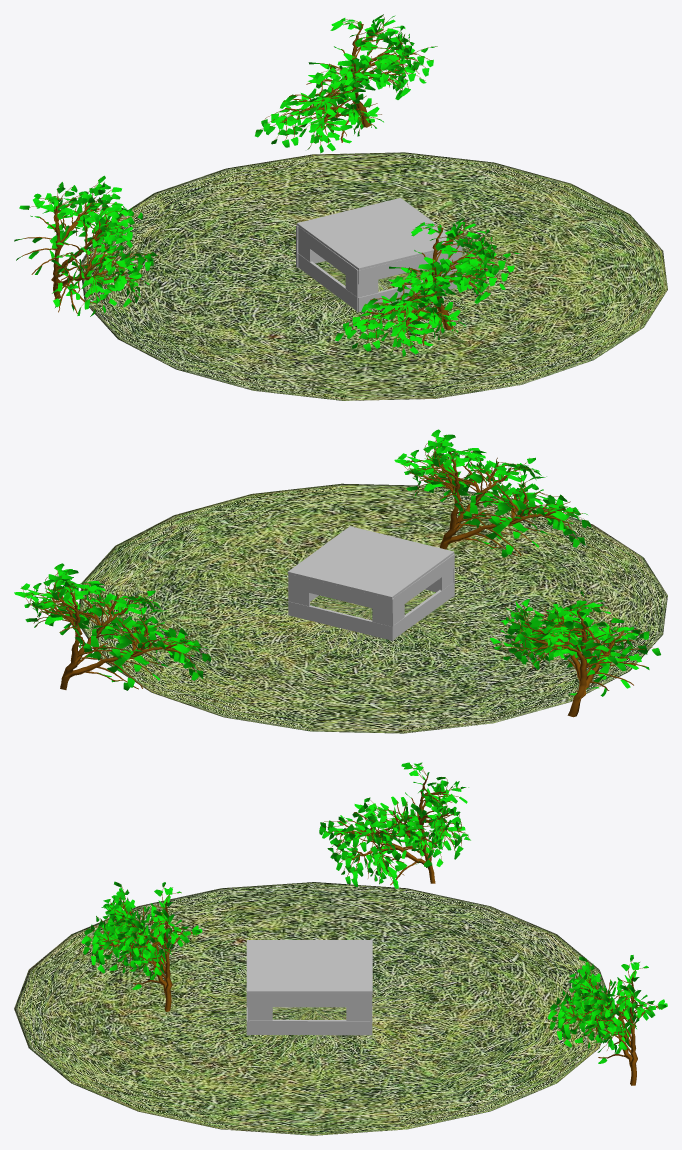
File: Tienda 2.fbx
3 renders of one model, top to bottom at view 1: azimuth 30°, elevation 25°; view 2: azimuth 150°, elevation 25°; view 3: azimuth 270°, elevation 25°, orthographic.
Visible parts, largest first — view 1: pSphere1, pasted__birchBlowingLight1Leaf, birchBlowingLight1Leaf, pasted__pasted__birchBlowingLight1Leaf, pCube2, pasted__pasted__birchBlowingLight1Main, birchBlowingLight1Main, pasted__birchBlowingLight1Main, pasted__pCube1 (×2), pasted__pasted__pCube1 (×2); view 2: pSphere1, pCube2, birchBlowingLight1Leaf, pasted__birchBlowingLight1Leaf, pasted__pasted__birchBlowingLight1Leaf, pasted__birchBlowingLight1Main, birchBlowingLight1Main, pasted__pasted__birchBlowingLight1Main, pasted__pasted__pCube1 (×2), pasted__pasted__pasted__pCube1, pasted__pCube1; view 3: pSphere1, pasted__pasted__birchBlowingLight1Leaf, pCube2, pasted__birchBlowingLight1Leaf, birchBlowingLight1Leaf, pasted__pasted__birchBlowingLight1Main, birchBlowingLight1Main, pasted__birchBlowingLight1Main, pasted__pasted__pasted__pCube1, pasted__pasted__pCube1.
Boxes of the visible parts, x1,y1,x2,y2 form: pSphere1: (81,152,667,400); pasted__birchBlowingLight1Leaf: (255,14,436,153); birchBlowingLight1Leaf: (335,217,519,356); pasted__pasted__birchBlowingLight1Leaf: (14,175,157,316); pCube2: (297,198,460,270); pasted__pasted__birchBlowingLight1Main: (21,179,152,313); birchBlowingLight1Main: (337,218,521,352); pasted__birchBlowingLight1Main: (256,15,437,149); pasted__pCube1 (×2): (298,226,462,284); pasted__pasted__pCube1 (×2): (298,254,457,311); pSphere1: (78,483,667,733); pCube2: (287,526,454,599); birchBlowingLight1Leaf: (394,429,591,557); pasted__birchBlowingLight1Leaf: (14,563,210,690); pasted__pasted__birchBlowingLight1Leaf: (490,591,660,696); pasted__birchBlowingLight1Main: (21,566,208,689); birchBlowingLight1Main: (399,433,588,555); pasted__pasted__birchBlowingLight1Main: (491,593,659,717); pasted__pasted__pCube1 (×2): (288,574,453,638); pasted__pasted__pasted__pCube1: (288,601,392,640); pasted__pCube1: (394,555,453,611); pSphere1: (14,882,610,1135); pasted__pasted__birchBlowingLight1Leaf: (319,762,470,888); pCube2: (247,940,372,993); pasted__birchBlowingLight1Leaf: (547,955,667,1063); birchBlowingLight1Leaf: (81,881,202,989); pasted__pasted__birchBlowingLight1Main: (322,763,469,885); birchBlowingLight1Main: (85,884,196,1011); pasted__birchBlowingLight1Main: (551,958,662,1085); pasted__pasted__pasted__pCube1: (250,1019,370,1035); pasted__pasted__pCube1: (250,993,370,1007).
Size of the model in its own units: 31.67 by 5.99 by 31.03.
